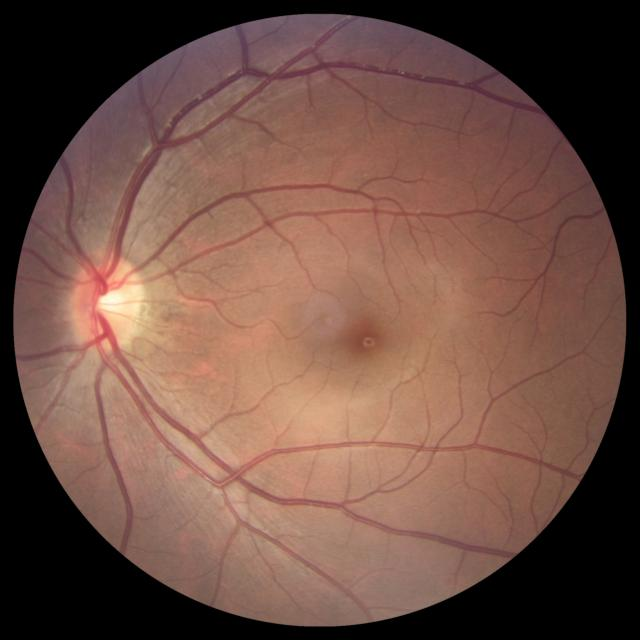OC: (94, 287, 126, 322)
OD: (70, 255, 147, 352)
